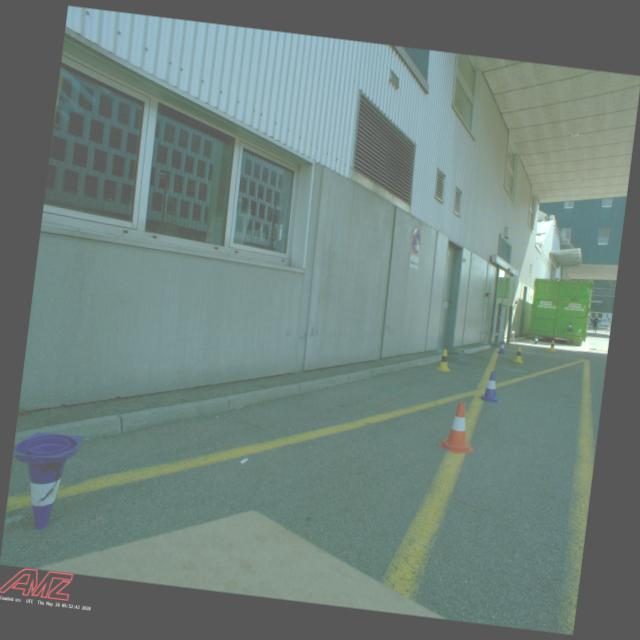blue_cone: (4, 426, 84, 532), (476, 369, 504, 404), (496, 340, 506, 354), (532, 334, 539, 344)
orange_cone: (436, 399, 481, 455)
yellow_cone: (434, 348, 454, 372), (513, 346, 525, 362), (548, 339, 556, 352)
